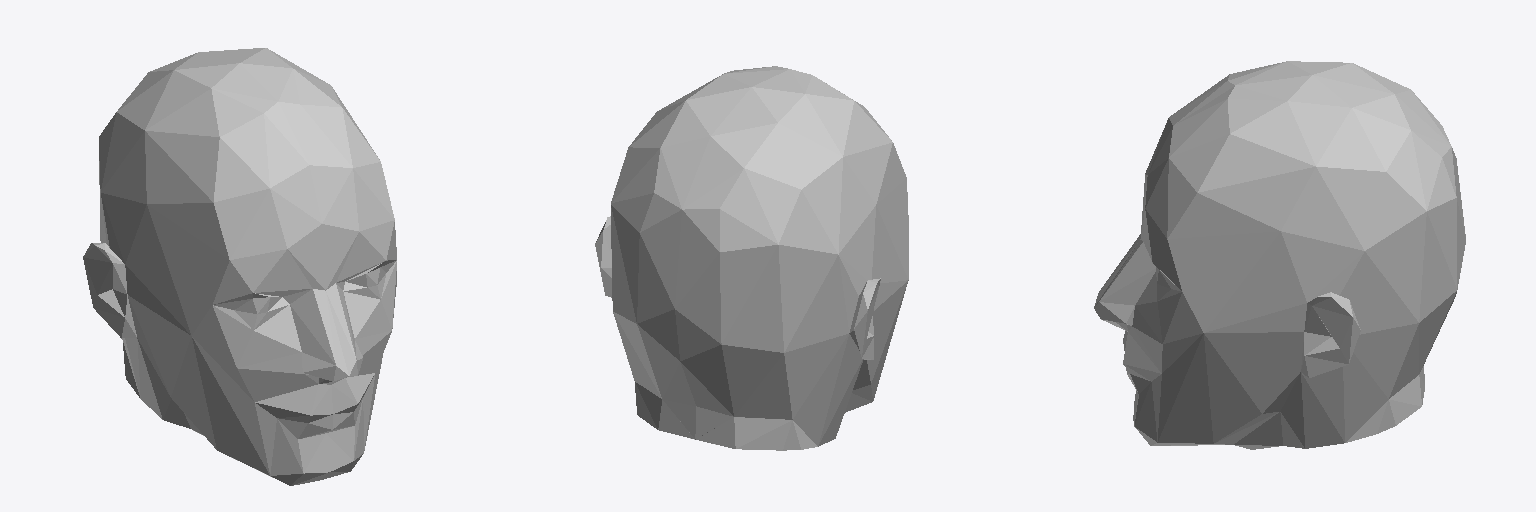
The model's file is finalface.obj.
3 renders of one model, left to right at view 1: azimuth 30°, elevation 25°; view 2: azimuth 150°, elevation 25°; view 3: azimuth 270°, elevation 25°, orthographic.
Visible parts, largest first — view 1: male_head.obj; view 2: male_head.obj; view 3: male_head.obj.
Part boxes in pixels (left/top/right/bottom): male_head.obj: left=83, top=48, right=396, bottom=485; male_head.obj: left=595, top=66, right=908, bottom=450; male_head.obj: left=1094, top=61, right=1465, bottom=449.
Size of the model in its own units: 3.01 by 3.82 by 3.56.